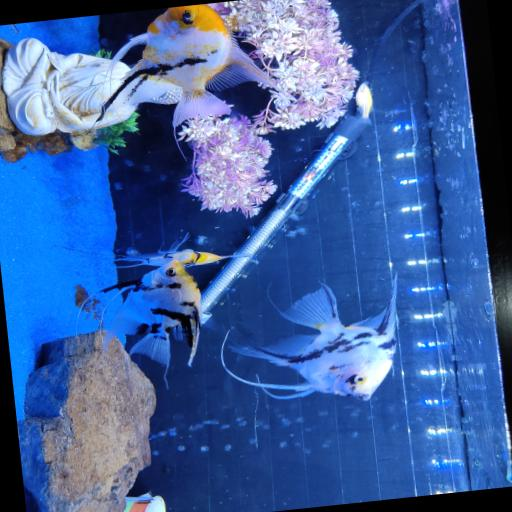Fish: (221, 277, 396, 400), (98, 4, 273, 126), (100, 260, 200, 384), (115, 232, 250, 267), (355, 82, 372, 120)
